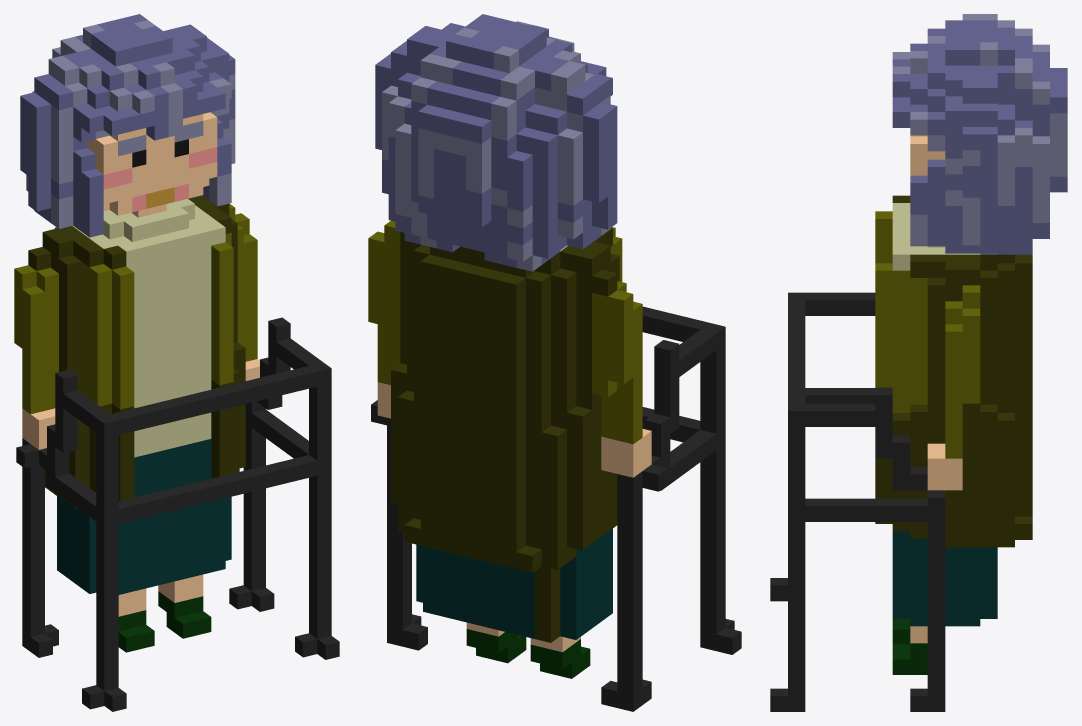
Rendered from Granny-5.obj.
3 renders of one model, left to right at view 1: azimuth 30°, elevation 25°; view 2: azimuth 150°, elevation 25°; view 3: azimuth 270°, elevation 25°, orthographic. The views are drawn at different scales.
Size of the model in its own units: 1.8 by 3.9 by 1.7.
Materials: 1 (1 with a texture image).
